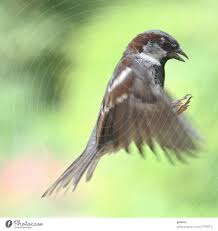hsparrow: (39, 29, 208, 210)
